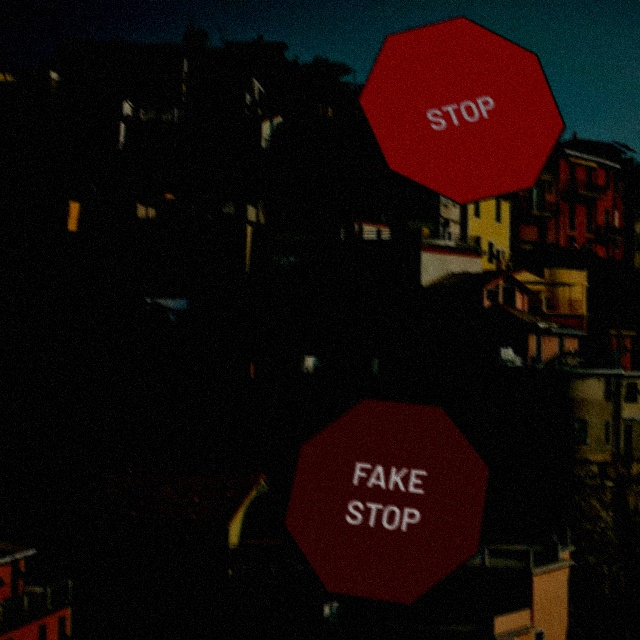FAKE_STOP: (282, 395, 491, 605)
STOP: (356, 13, 566, 204)
